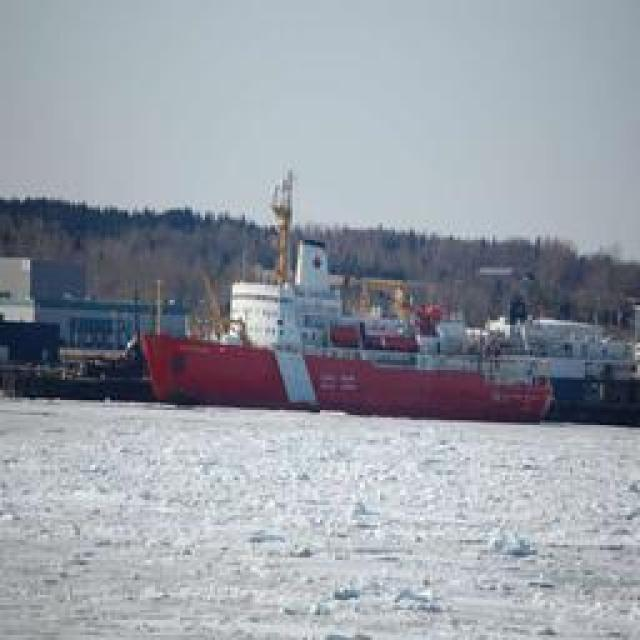CIV_Ship: (139, 258, 599, 422)
